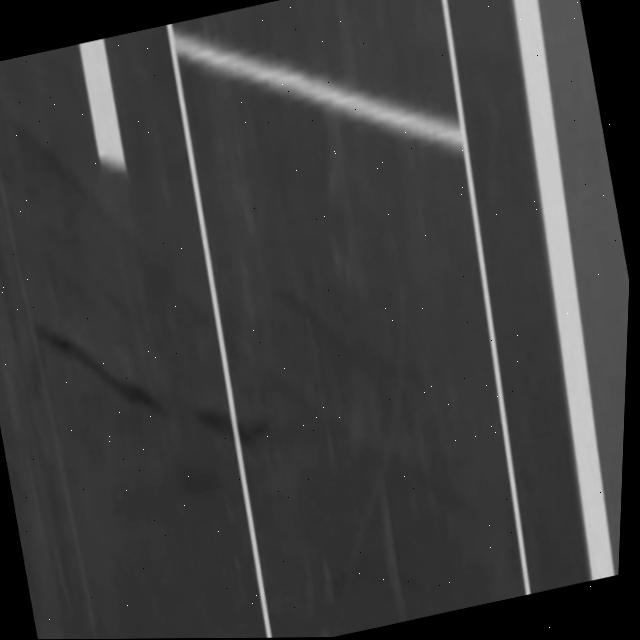center: (78, 38, 125, 172)
left: (513, 0, 615, 580)
